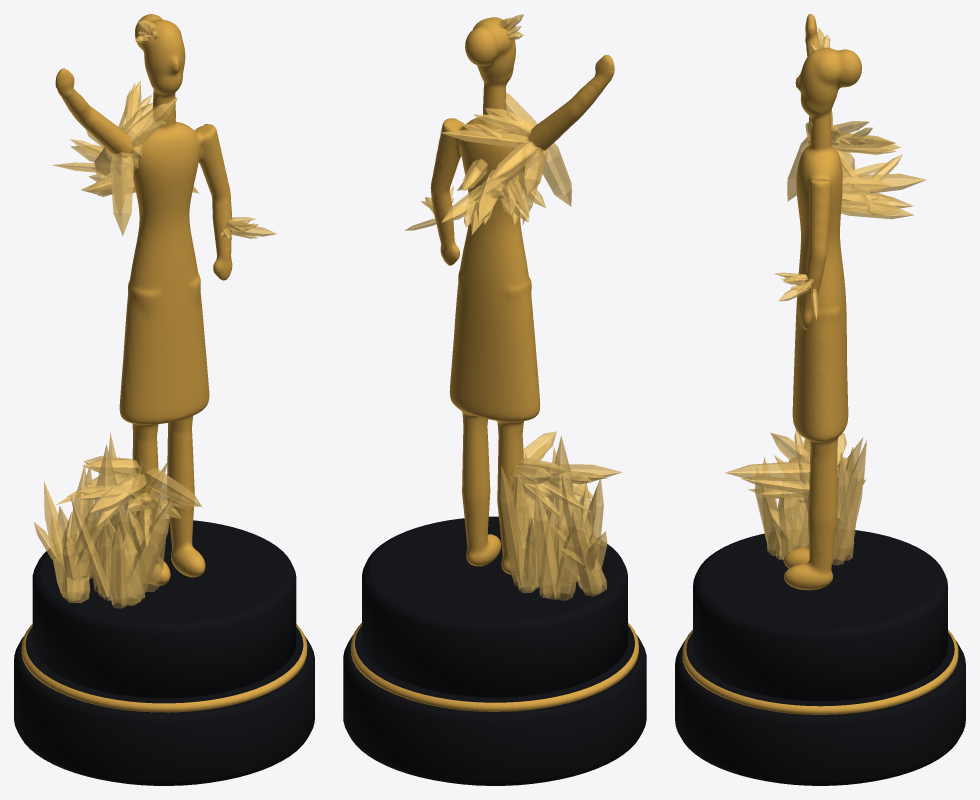
File: avatar_lady_wave.glb
The picture shows the model from 3 angles, left to right: view 1: azimuth 30°, elevation 25°; view 2: azimuth 150°, elevation 25°; view 3: azimuth 270°, elevation 25°; orthographic projection. The views are drawn at different scales.
Visible parts, largest first — view 1: Pedestal, Lady sculpt, Six dense crystal colonies; view 2: Pedestal, Lady sculpt, Six dense crystal colonies; view 3: Pedestal, Lady sculpt, Six dense crystal colonies.
Boxes of the visible parts, <box> form: Pedestal: <box>14,519,314,785</box>; Lady sculpt: <box>55,14,232,585</box>; Six dense crystal colonies: <box>33,20,276,608</box>; Pedestal: <box>343,516,646,785</box>; Lady sculpt: <box>430,17,614,574</box>; Six dense crystal colonies: <box>404,14,622,600</box>; Pedestal: <box>675,530,965,785</box>; Lady sculpt: <box>784,14,861,590</box>; Six dense crystal colonies: <box>725,27,926,565</box>.
Bounding box in the file's own units: 0.3833 × 1 × 0.3833.
